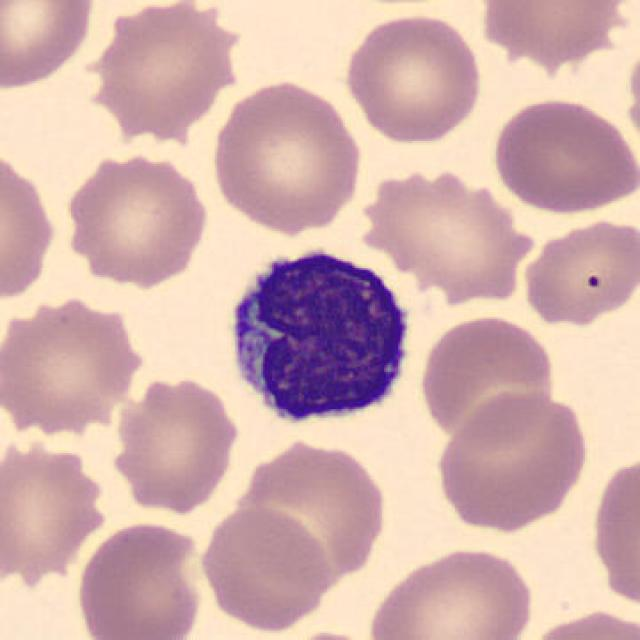Lymphocyte: (217, 235, 421, 438)
RBC: (352, 166, 538, 304), (206, 76, 366, 236), (80, 0, 248, 147), (432, 388, 592, 534), (239, 438, 388, 584), (60, 146, 212, 289), (0, 291, 149, 432), (106, 370, 244, 517), (340, 10, 486, 146), (416, 310, 560, 446), (487, 93, 638, 217), (0, 429, 112, 594), (194, 502, 334, 634), (364, 543, 538, 640), (73, 518, 208, 640), (517, 215, 640, 328), (475, 1, 633, 62), (0, 0, 99, 93), (0, 139, 55, 299), (588, 448, 638, 617), (515, 604, 638, 640), (624, 34, 640, 162)
